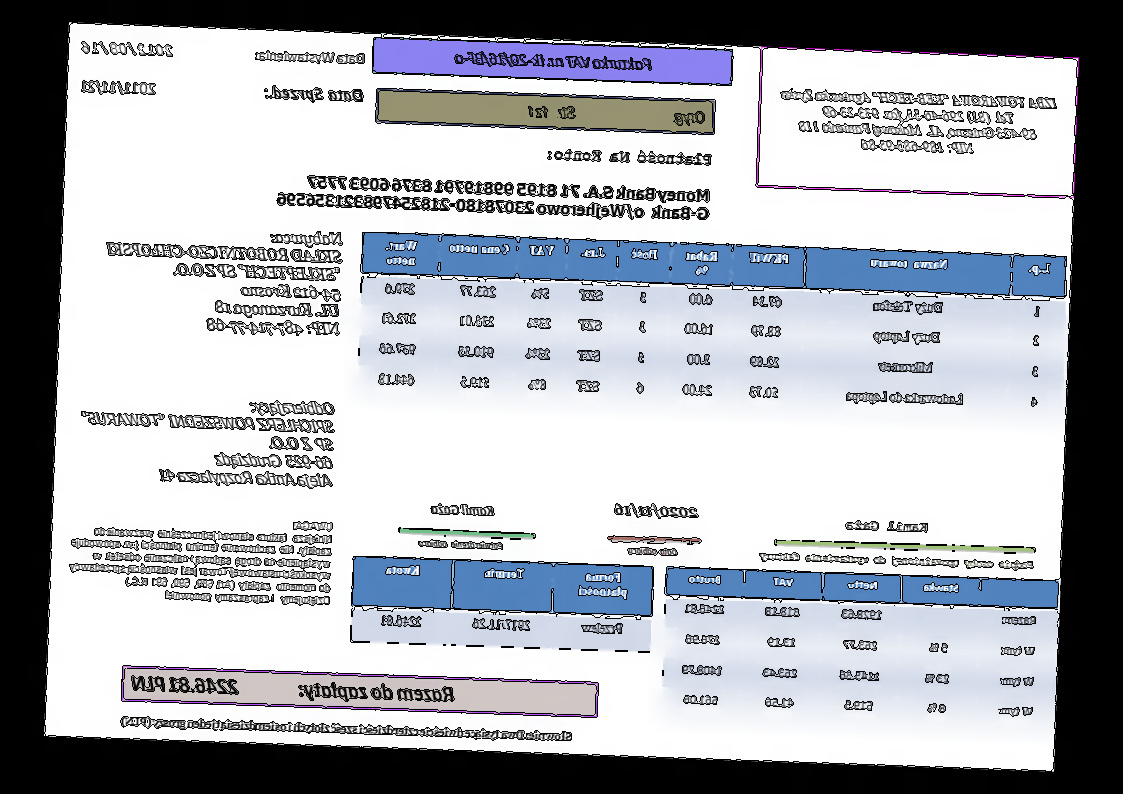Table: (357, 229, 1069, 422), (661, 565, 1060, 731), (350, 554, 655, 653)
TextBox: (101, 221, 346, 341), (64, 509, 336, 609), (74, 390, 339, 492), (274, 170, 713, 225), (778, 82, 1060, 160), (119, 712, 576, 745), (128, 671, 458, 707), (757, 548, 1036, 574), (451, 48, 657, 75), (525, 101, 708, 128), (546, 145, 716, 170), (256, 83, 367, 107), (252, 46, 368, 66), (79, 38, 176, 60), (613, 500, 701, 522), (841, 517, 930, 536), (418, 535, 506, 553), (77, 78, 160, 97), (428, 500, 499, 519), (625, 544, 681, 559)
